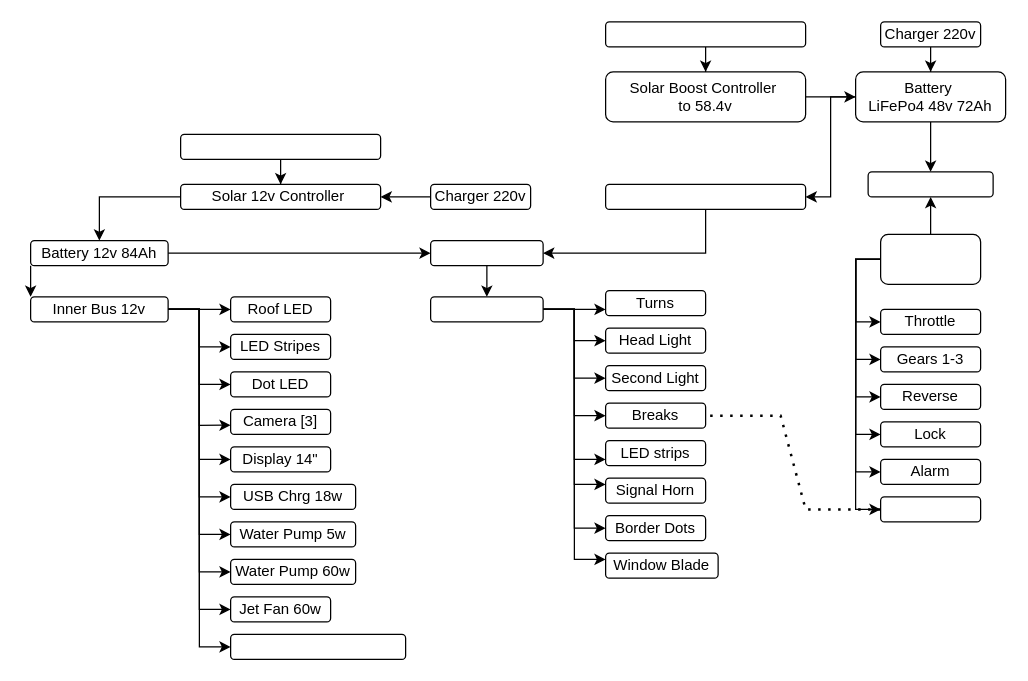
Image size: 1028x681. Some labels were removed from this diagram. Here are the shapes that lost their labels. From the top down, the centre of each, then its label:
At point (705, 34): "Solar Panel 250w 40v".
At point (280, 146): "Solar Panel 60w 40v".
At point (705, 196): "DC Buck 12v".
At point (930, 184): "Motor 48v 1200 w".
At point (486, 252): "Hard Switch".
At point (930, 258): "Controller 48v 3000w".
At point (486, 309): "Outer Bus 12v".
At point (930, 509): "Stop / Break".
At point (317, 646): "DC -> AC Inverter 700w".
